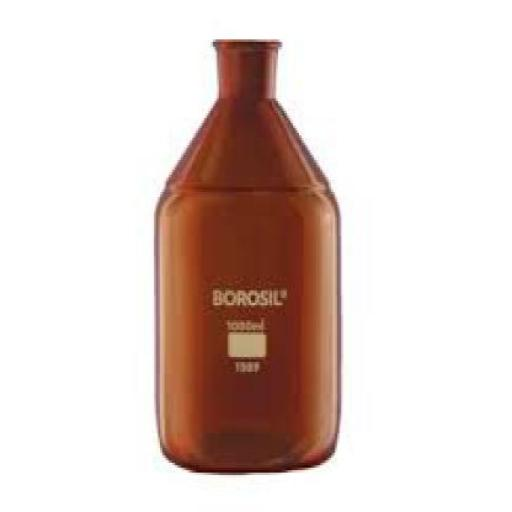glass: (154, 37, 337, 473)
